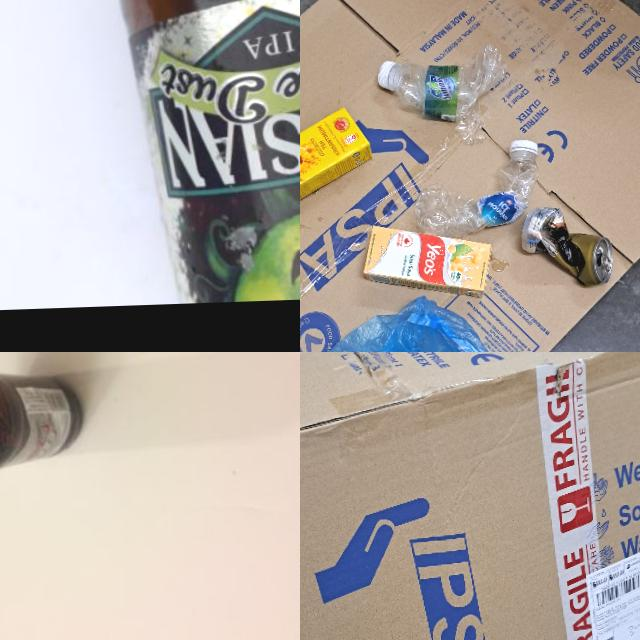aba de lata: (600, 253, 610, 272)
caixinha: (362, 221, 492, 301), (300, 107, 373, 215)
garrafa de vidro: (115, 0, 300, 304), (0, 361, 85, 482)
garrafa plástica: (410, 153, 539, 237), (394, 42, 507, 124)
lata: (520, 204, 614, 290)
papelão: (300, 0, 640, 352), (300, 352, 640, 640)
tampa plástica: (376, 60, 396, 92), (509, 138, 538, 154)
